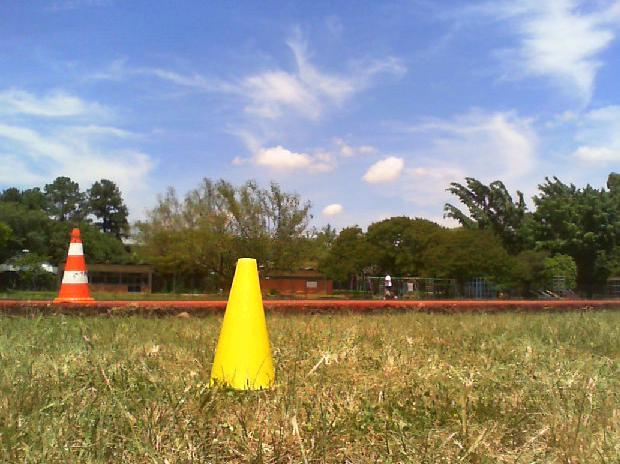0 cone: (210, 257, 282, 393), (52, 229, 96, 303)
